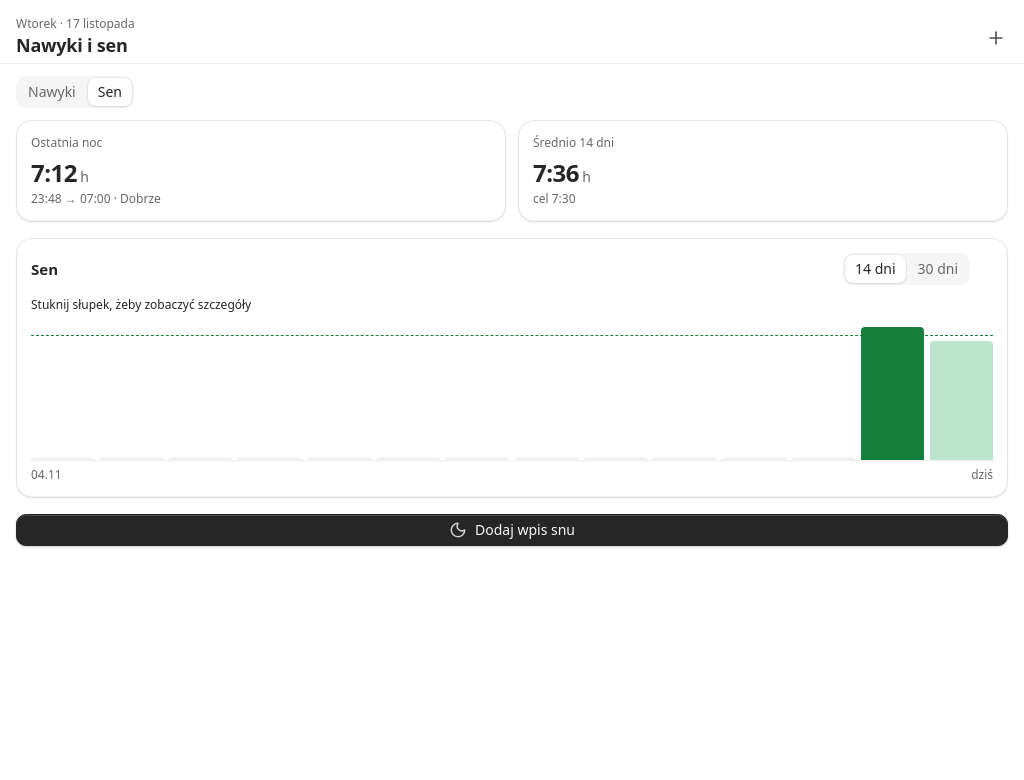
Test: MHabits — zakładka Sen › słupek bez wpisu: „brak wpisu”
This screenshot has width=1024, height=780.
Step 1. Click the button named "10.11 · brak wpisu" → (477, 390), box [446,321,509,460]
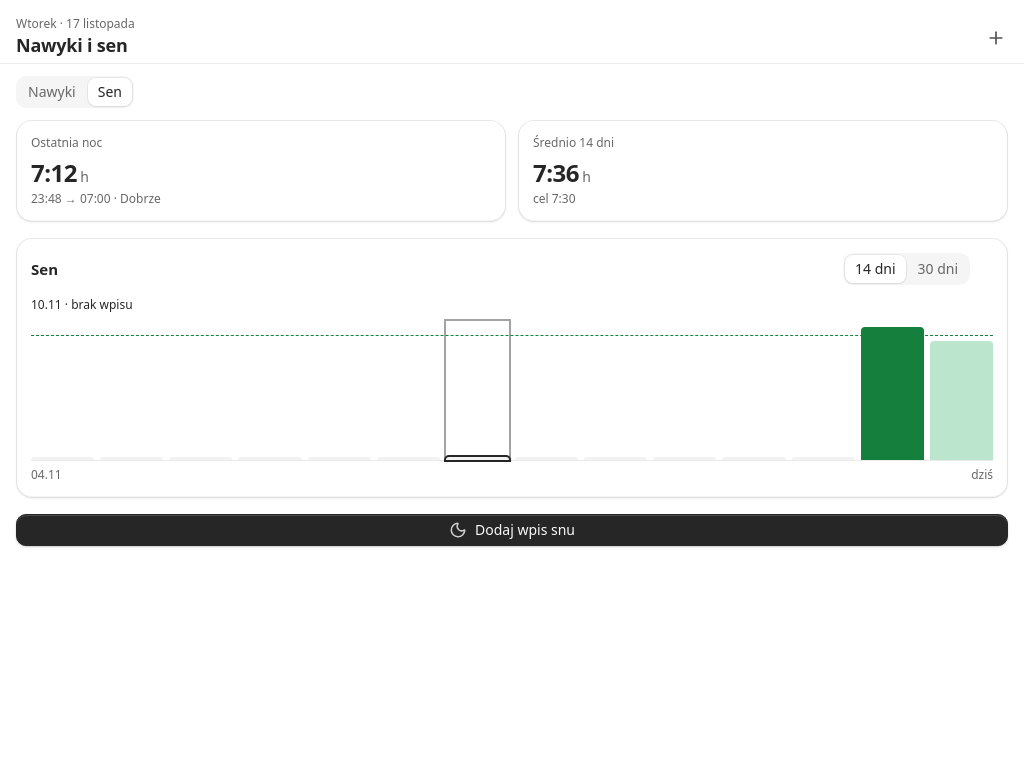
Expected: the text "10.11 · brak wpisu" is shown, [31,296,133,313]
